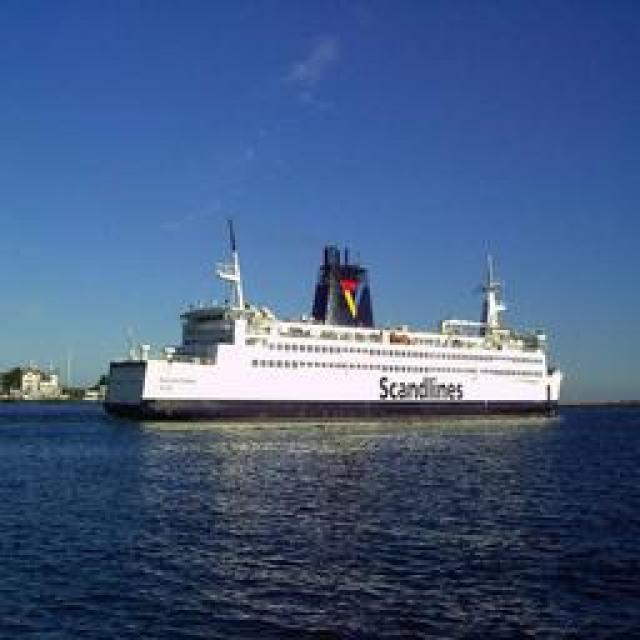ship2: (102, 212, 567, 423)
